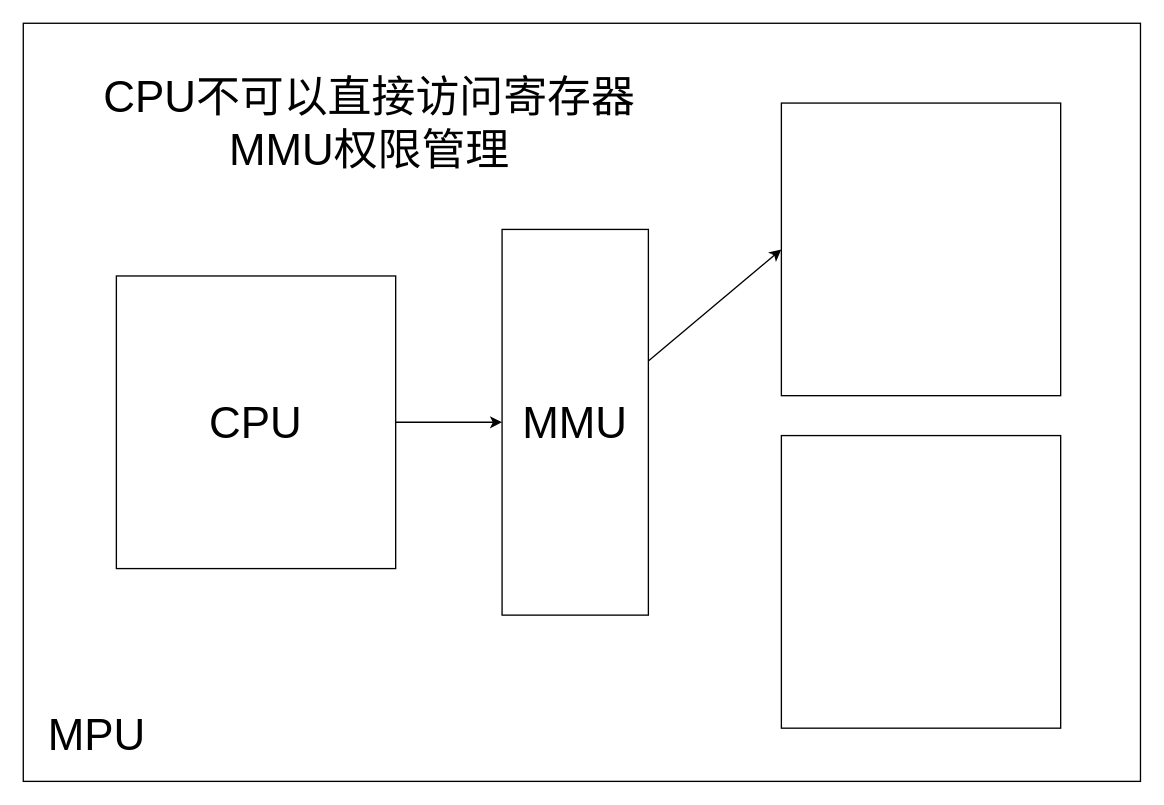
Some shapes in this 1164 by 805 pixel diagram are drawn without their labels. The shapes that lost their labels are listed below. From the top down, each one's centre as x and y in pixels, then its label:
the point at 920,249: GPIO
the point at 920,581: RAM
